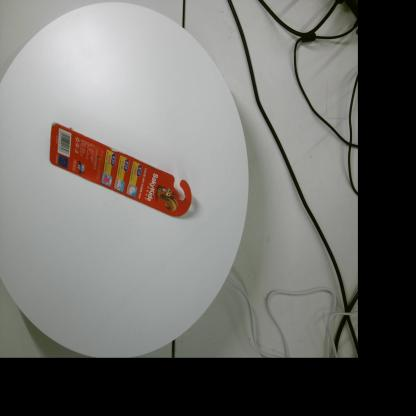Personal Hygiene: (49, 122, 192, 217)
